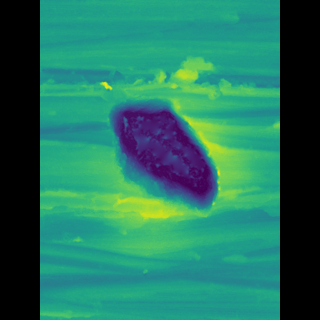Loch: (69, 236, 251, 320), (119, 86, 207, 220), (70, 57, 250, 97)
